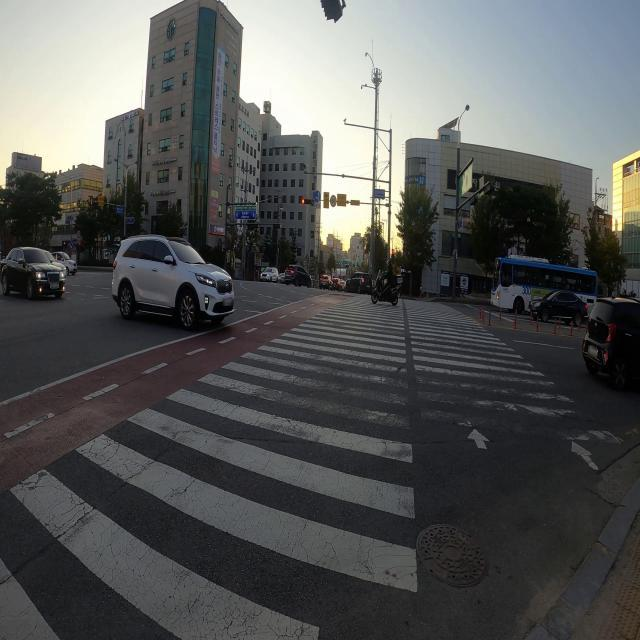crosswalk: (0, 293, 630, 640)
